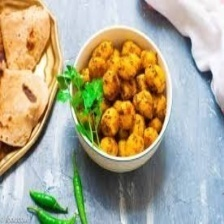sabzi: (68, 33, 170, 162)
